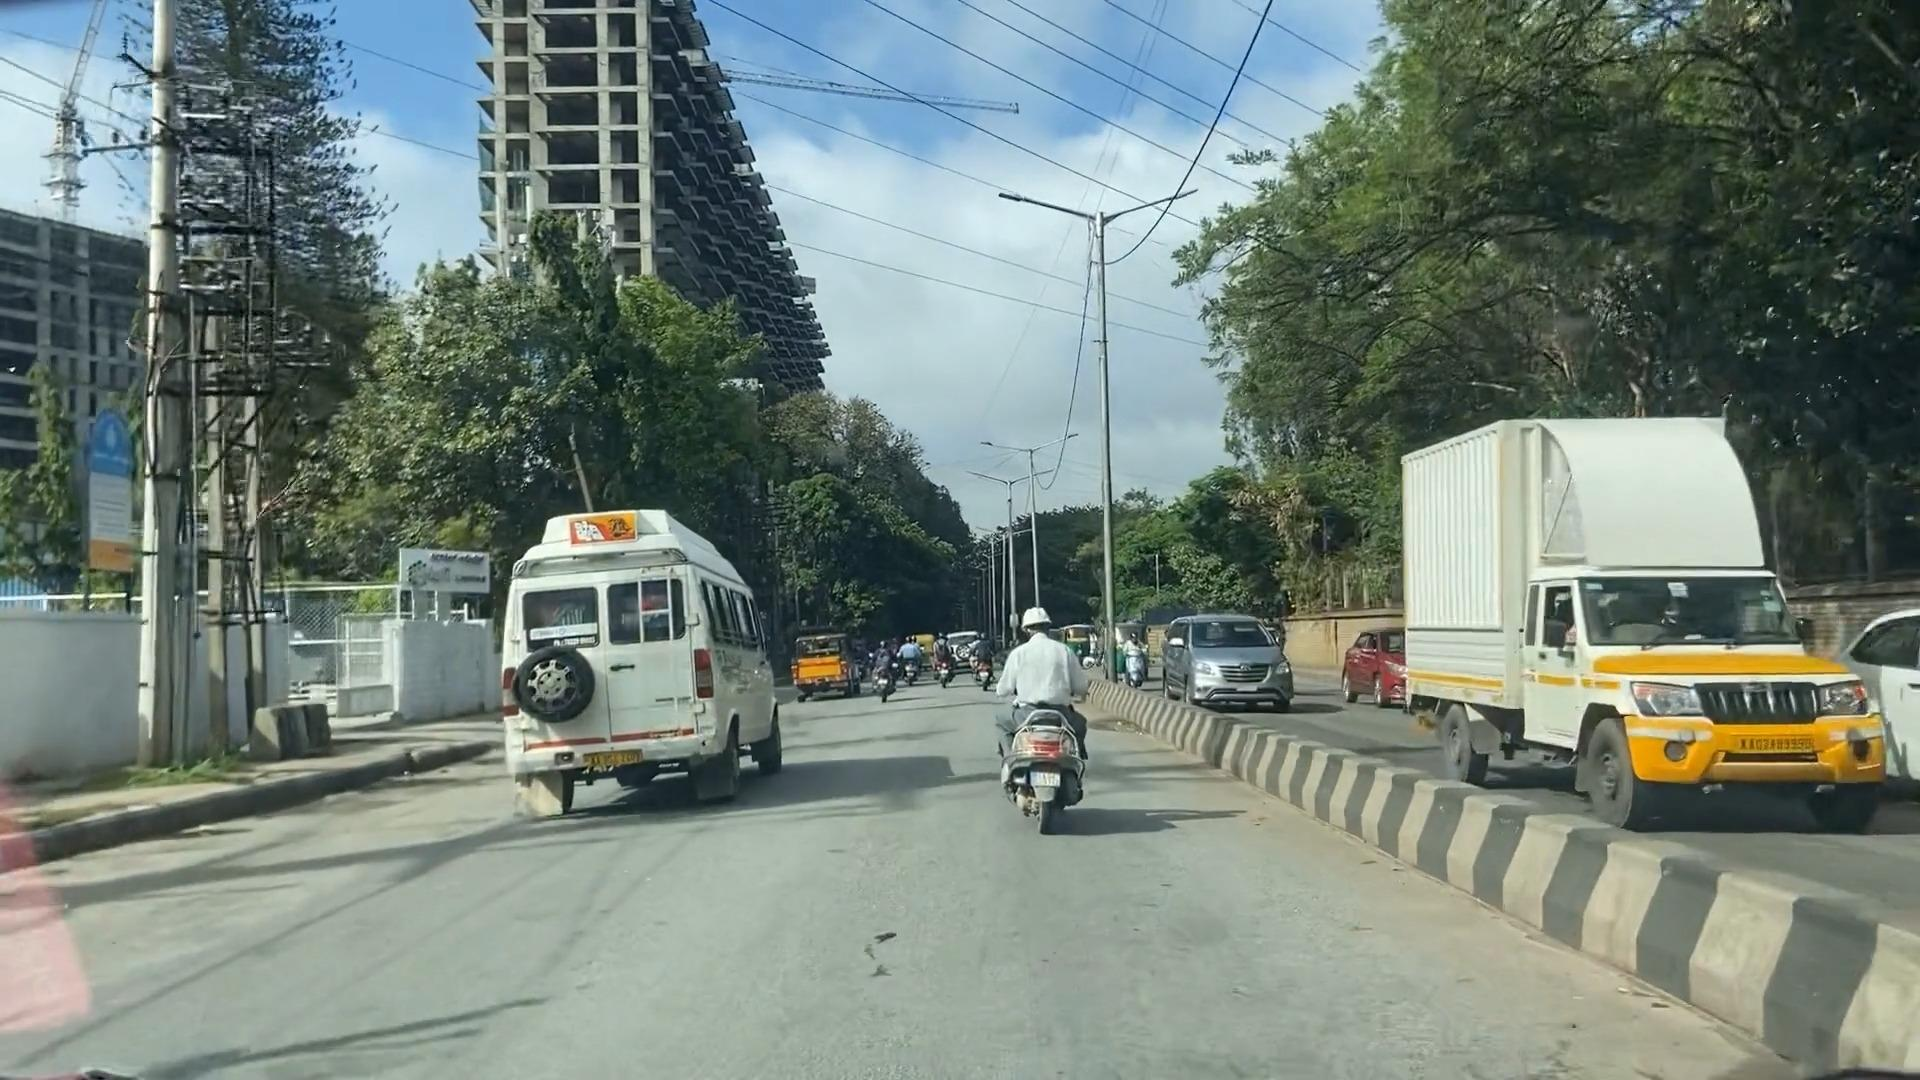HMV: (477, 526, 799, 812)
LMV: (976, 618, 1097, 835)
